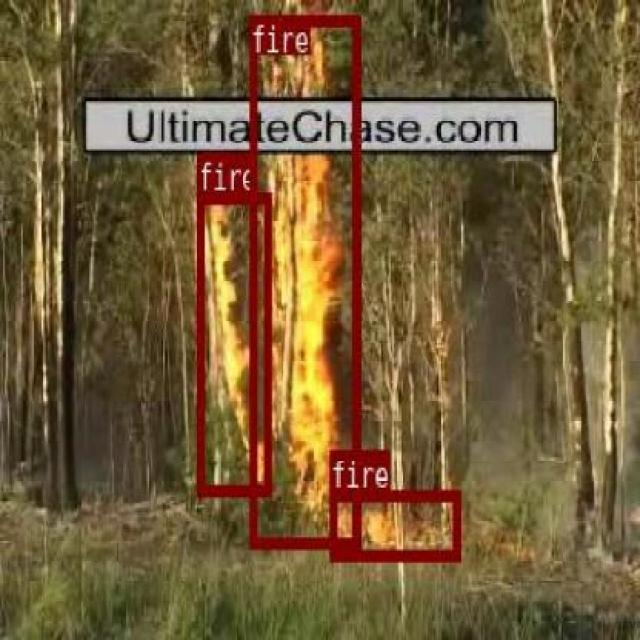Fire: (250, 14, 358, 546), (197, 192, 270, 494), (329, 488, 458, 560)
